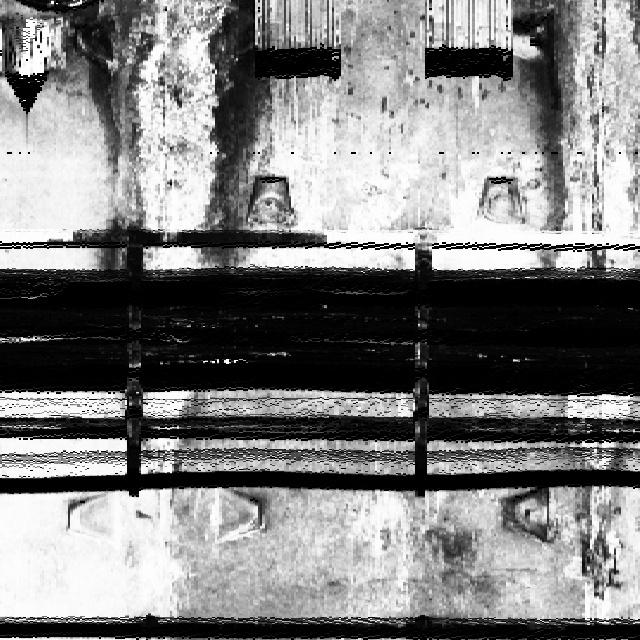leakage: (45, 0, 281, 276), (507, 0, 608, 265), (554, 392, 639, 618)
